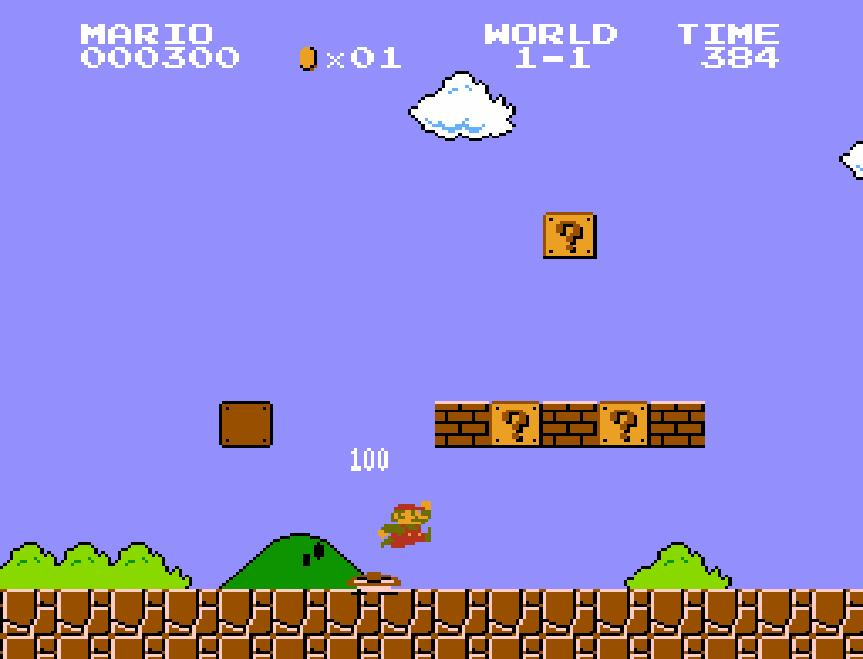little_mario: (376, 500, 434, 550)
